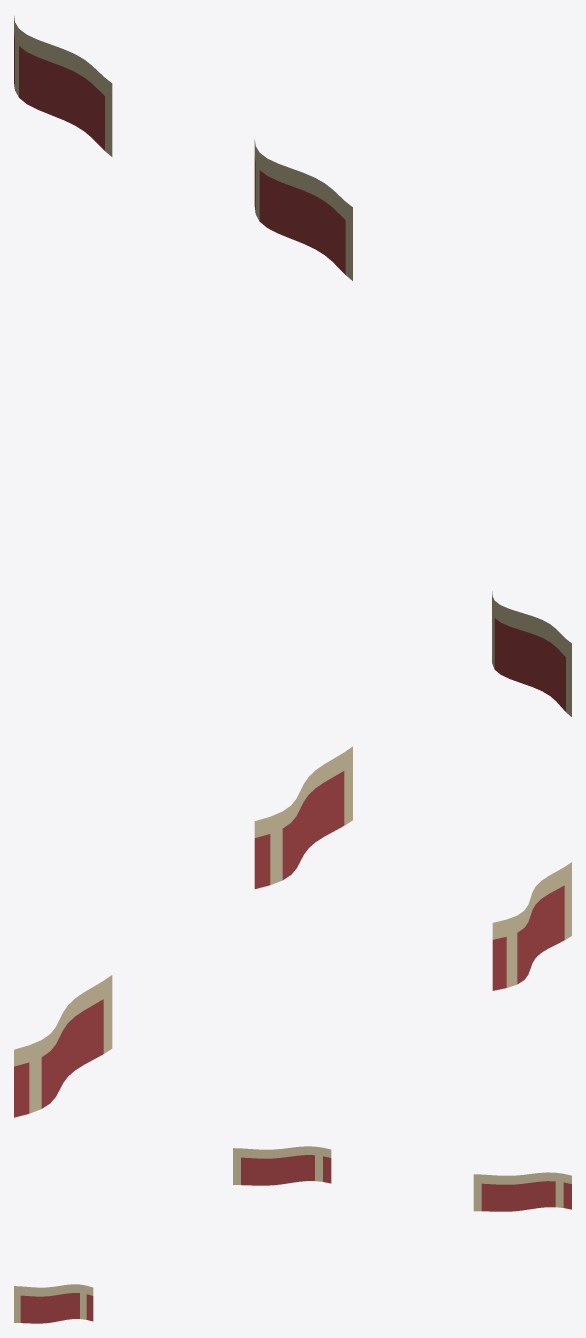
The model's file is pennants_square.glb.
3 views of the same model, one above another, from view 1: azimuth 30°, elevation 25°; view 2: azimuth 150°, elevation 25°; view 3: azimuth 270°, elevation 25° (orthographic). The views are drawn at different scales.
Visible parts, largest first — view 1: Aft pennant.001, Main pennant.001, Fore pennant.001; view 2: Aft pennant.001, Main pennant.001, Fore pennant.001; view 3: Aft pennant.001, Main pennant.001, Fore pennant.001.
Part boxes in pixels (x1,y1,x2,y2): Aft pennant.001: [14, 16, 112, 156]; Main pennant.001: [254, 139, 352, 280]; Fore pennant.001: [492, 591, 571, 716]; Aft pennant.001: [14, 975, 112, 1117]; Main pennant.001: [254, 746, 352, 888]; Fore pennant.001: [492, 862, 571, 990]; Aft pennant.001: [473, 1172, 571, 1211]; Main pennant.001: [233, 1146, 331, 1185]; Fore pennant.001: [14, 1284, 93, 1323].
Size of the model in its own units: 0.1973 by 4.02 by 11.62.
